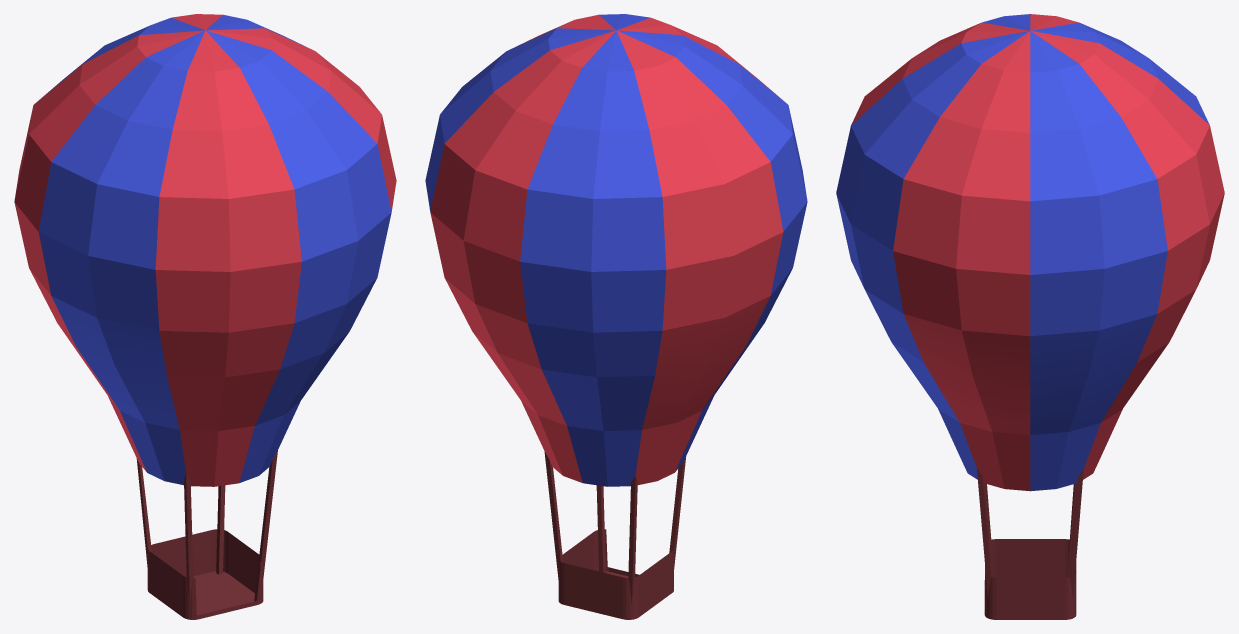
The model's file is Balloon.glb.
The picture shows the model from 3 angles, left to right: view 1: azimuth 30°, elevation 25°; view 2: azimuth 150°, elevation 25°; view 3: azimuth 270°, elevation 25°; orthographic projection.
Visible parts, largest first — view 1: second island.002; view 2: second island.002; view 3: second island.002.
Part boxes in pixels (x1,y1,x2,y2): second island.002: (14, 14, 396, 619); second island.002: (425, 14, 807, 619); second island.002: (836, 14, 1224, 619).
Bounding box in the file's own units: 2.14 × 3.47 × 2.14.
